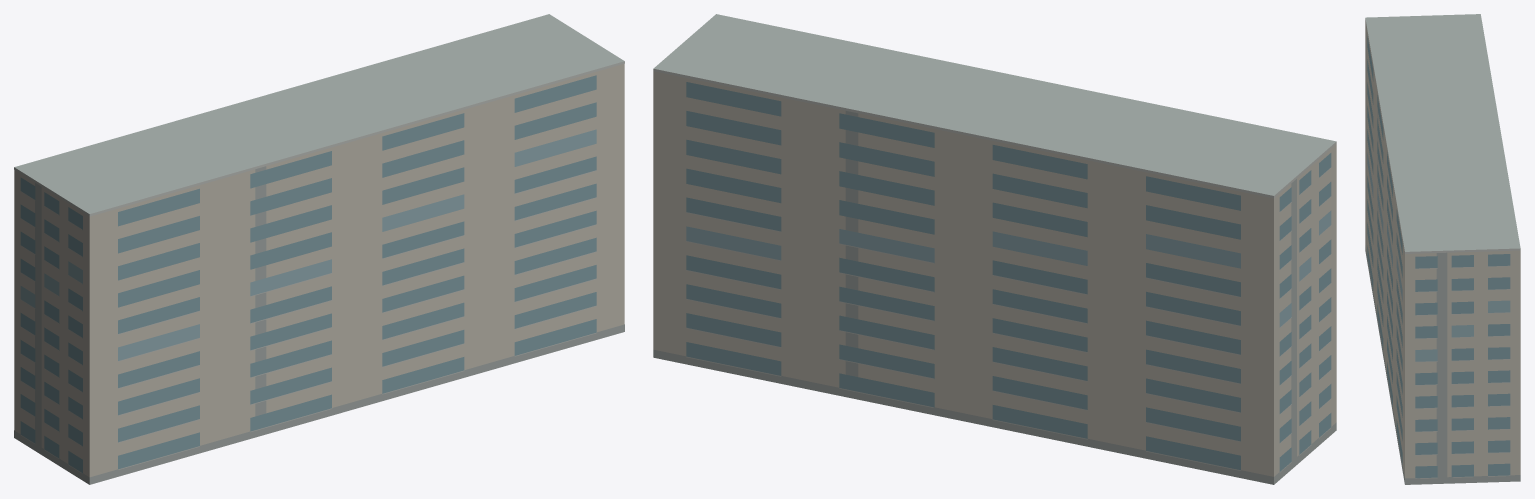
File: residential-0fdf8c99-1c78-4b49-b64b-c0747da13cf5.glb
3 views of the same model, side by side, from view 1: azimuth 30°, elevation 25°; view 2: azimuth 150°, elevation 25°; view 3: azimuth 270°, elevation 25° (orthographic). The views are drawn at different scales.
Parts seen in each view (by area): view 1: residential-0fdf8c99-1c78-4b49-b64b-c0747da13cf5.tmp; view 2: residential-0fdf8c99-1c78-4b49-b64b-c0747da13cf5.tmp; view 3: residential-0fdf8c99-1c78-4b49-b64b-c0747da13cf5.tmp.
Part boxes in pixels (<box>): residential-0fdf8c99-1c78-4b49-b64b-c0747da13cf5.tmp: <box>14,14,624,484</box>; residential-0fdf8c99-1c78-4b49-b64b-c0747da13cf5.tmp: <box>653,14,1336,484</box>; residential-0fdf8c99-1c78-4b49-b64b-c0747da13cf5.tmp: <box>1365,14,1520,484</box>.
Bounding box in the file's own units: 59.14 × 27 × 16.32.
